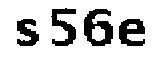5: (45, 8, 78, 47)
6: (81, 8, 115, 49)
e: (117, 16, 147, 50)
s: (12, 16, 41, 50)
